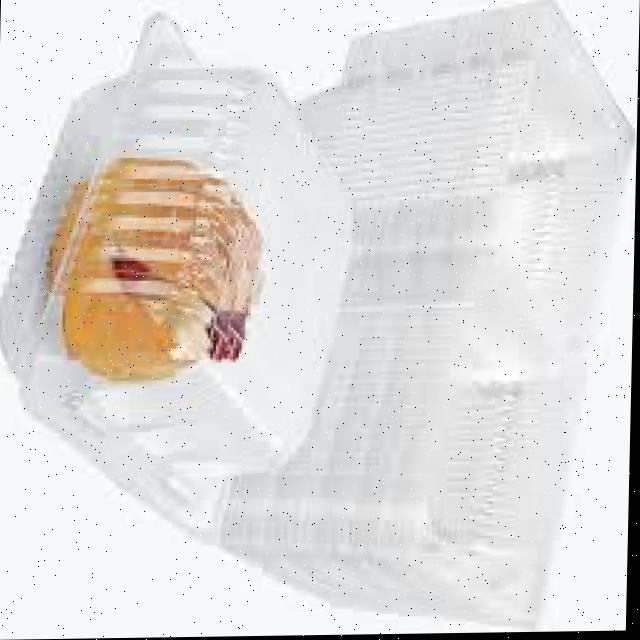disposable: (0, 7, 368, 537)
